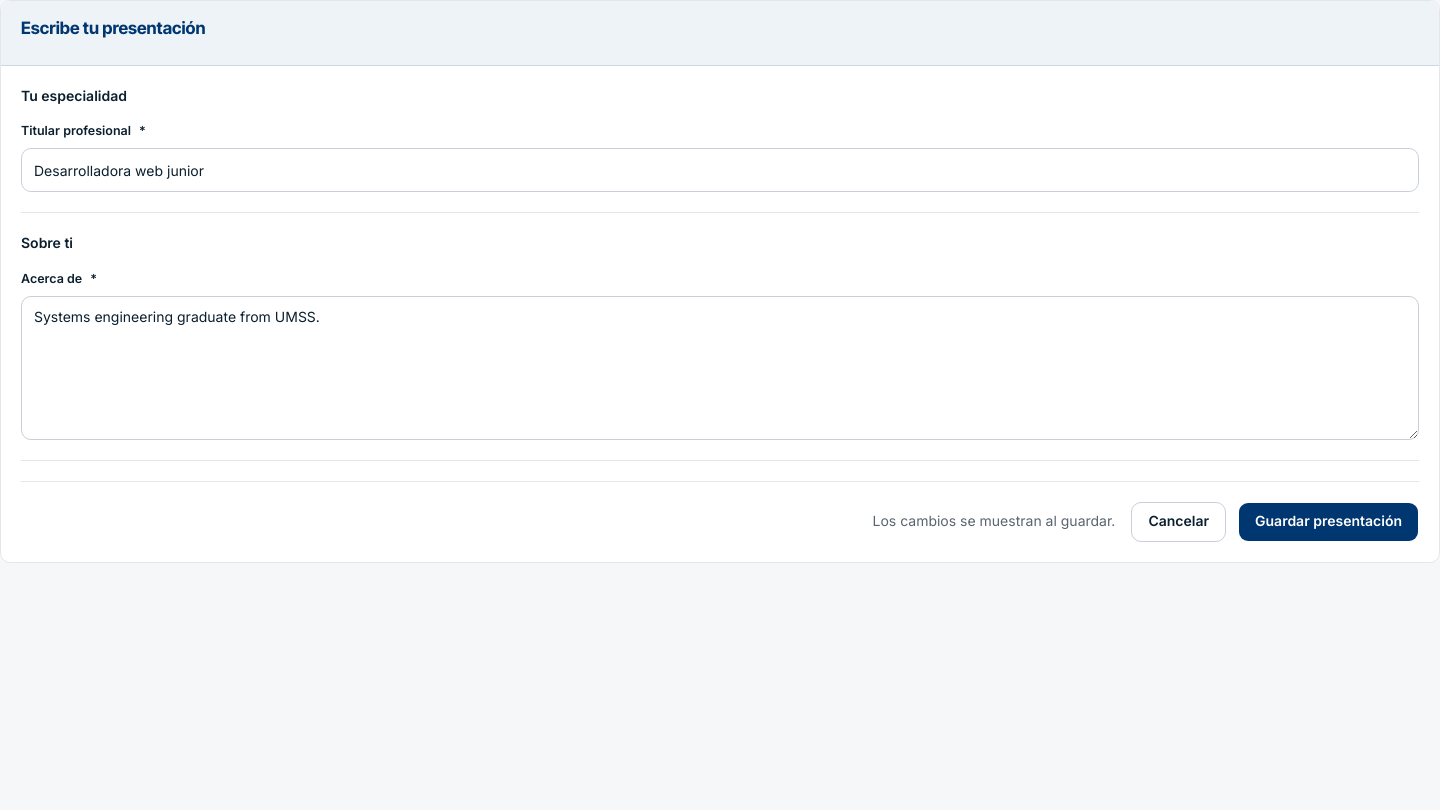
it: PresentationForm › restores the initial values when cancelling
The width and height of the screenshot is (1440, 810).
Replace the text in the field labelled "Titular profesional *" with "Another headline". click: [720, 170]
box: [21,148,1419,192]
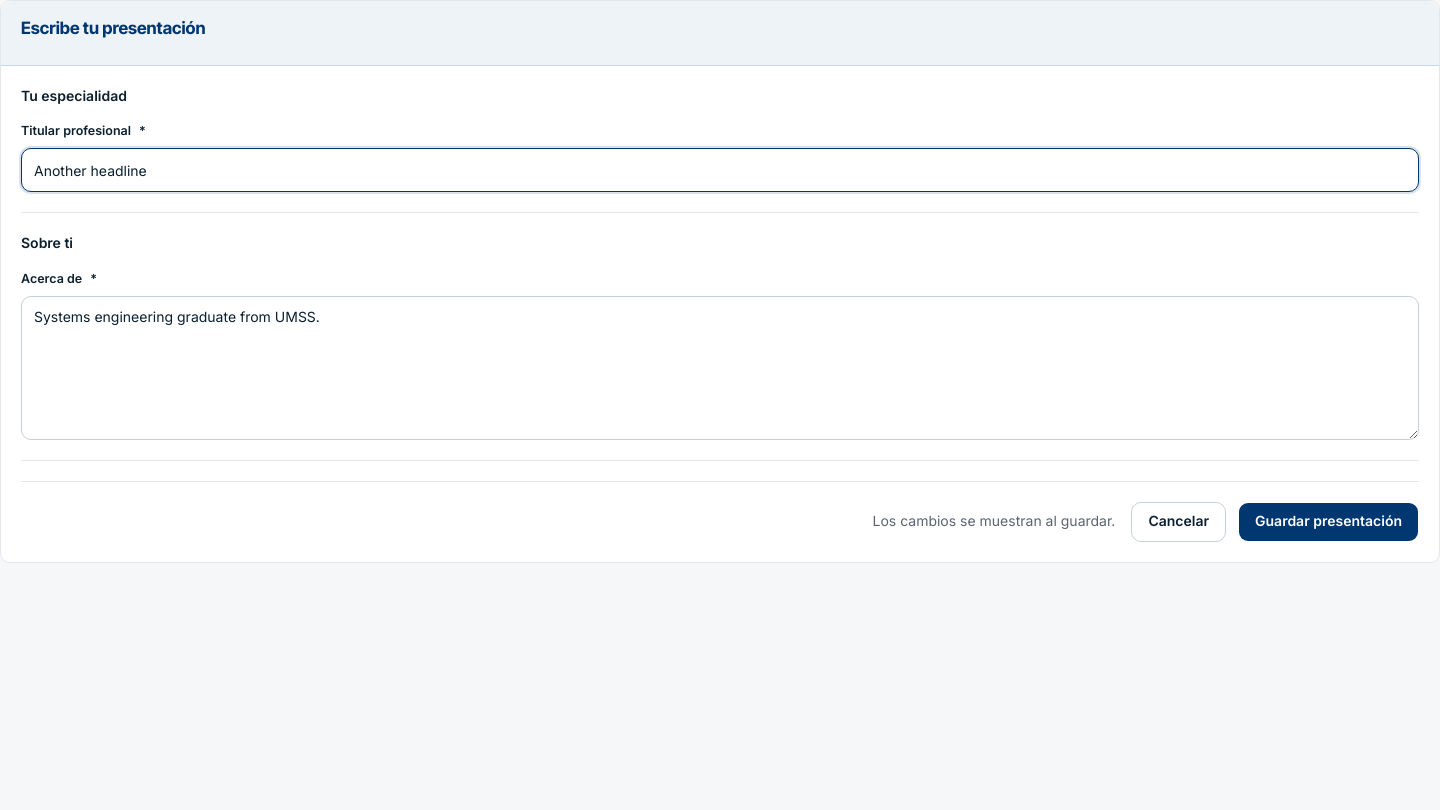
Click the button "Cancelar". click: [1179, 522]
box: [1131,502,1226,542]
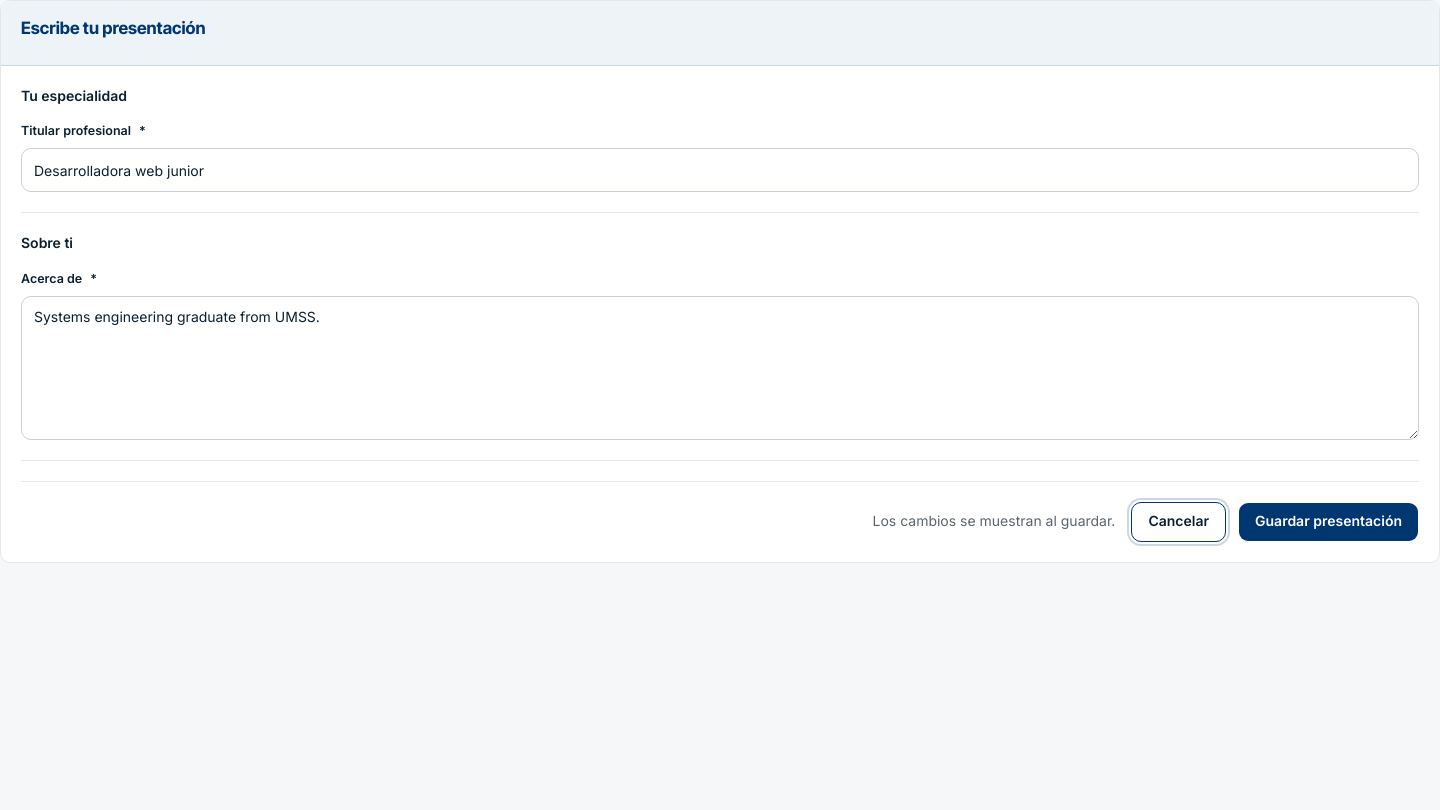
Expected: the field labelled "Titular profesional *" holds "Desarrolladora web junior", [21,148,1419,192]
